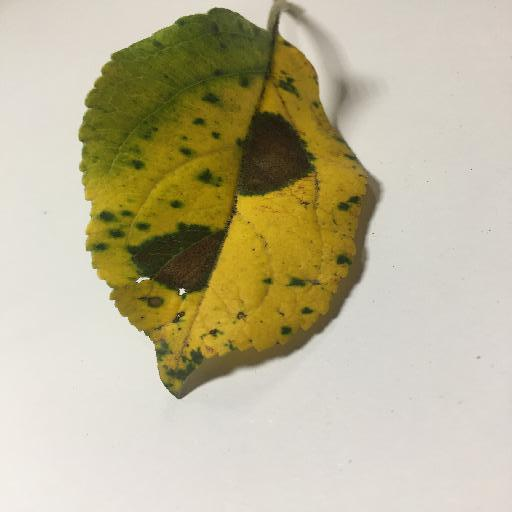Brown_Spot: (250, 122, 312, 182), (160, 241, 218, 284)
